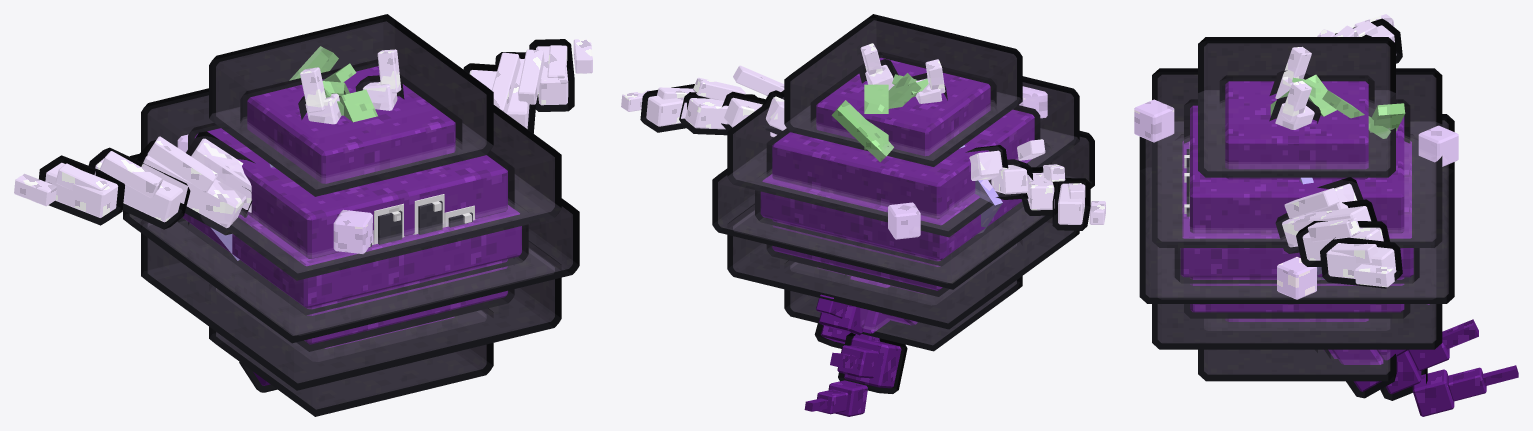
File: cosmic_wisp_00.glb
The picture shows the model from 3 angles, left to right: view 1: azimuth 30°, elevation 25°; view 2: azimuth 150°, elevation 25°; view 3: azimuth 270°, elevation 25°; orthographic projection. The views are drawn at different scales.
Visible parts, largest first — view 1: model; view 2: model; view 3: model.
Boxes of the visible parts, x1,y1,x2,y2 form: model: (14,14,592,416); model: (621,14,1105,416); model: (1134,14,1518,416).
Size of the model in its own units: 2.06 by 1.29 by 1.29.
9 materials, 8 textured.
